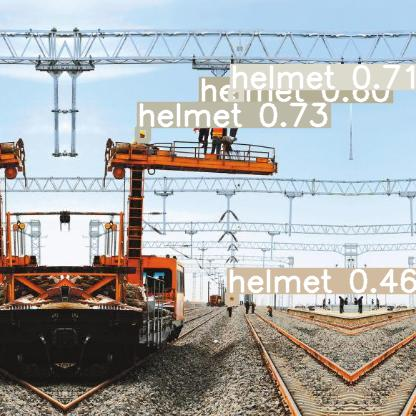helmet: (137, 127, 148, 140), (230, 89, 241, 101), (199, 102, 209, 115), (227, 293, 236, 303)
